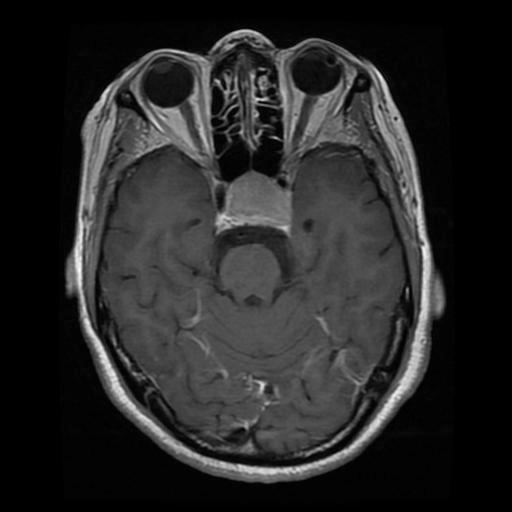Tumour-Pituitary: (215, 175, 301, 238)
